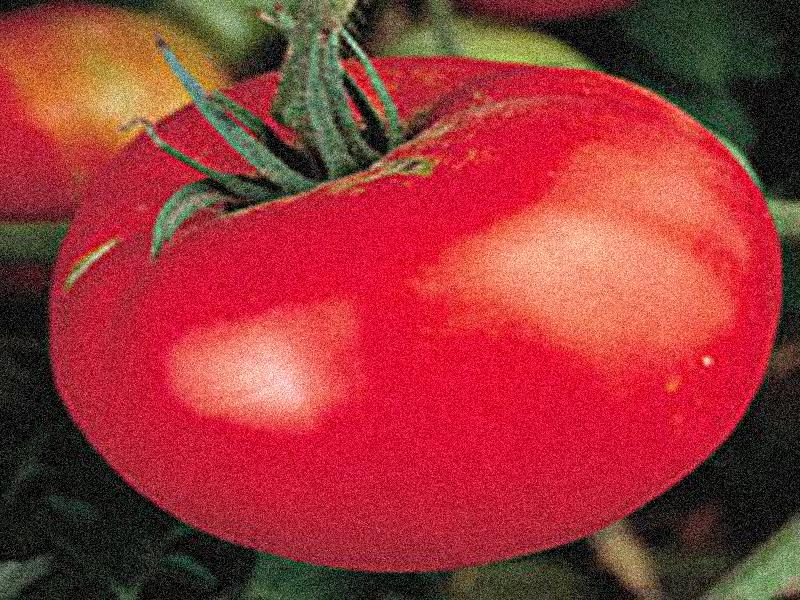Tomato: (55, 58, 777, 573)
